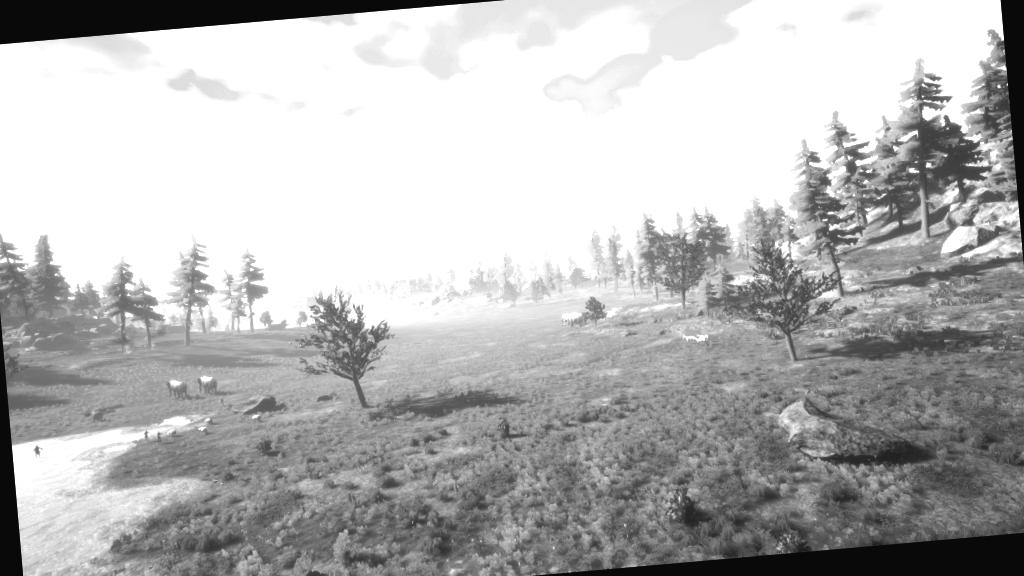Fire: (122, 398, 169, 434), (118, 338, 139, 358), (144, 336, 164, 355)
elephant: (189, 367, 232, 403), (154, 370, 196, 404), (560, 301, 594, 332)
human: (30, 439, 54, 464)
pig: (250, 408, 266, 428), (195, 421, 210, 440)
zebra: (682, 328, 716, 354)
